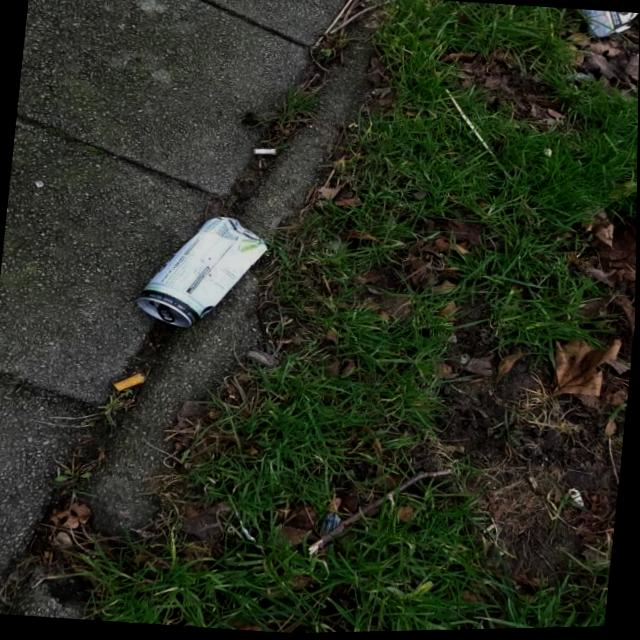Can-Metal: (129, 207, 274, 338)
Paper: (576, 10, 640, 46)
